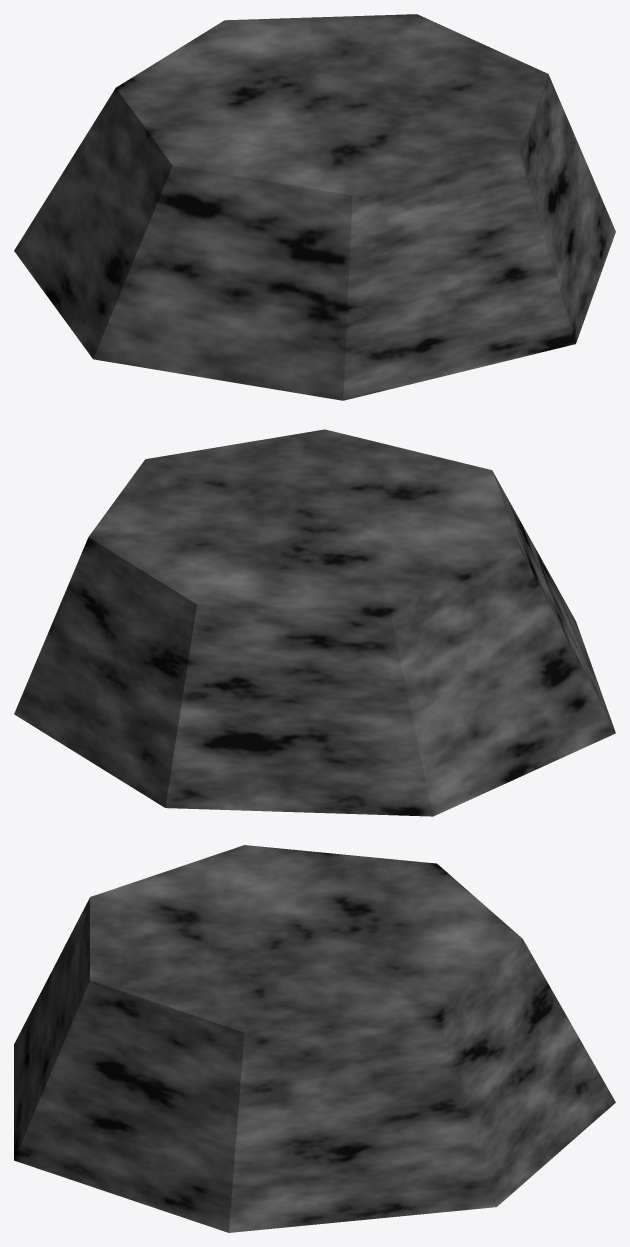
File: Smallrock.fbx
The picture shows the model from 3 angles, top to bottom: view 1: azimuth 30°, elevation 25°; view 2: azimuth 150°, elevation 25°; view 3: azimuth 270°, elevation 25°; orthographic projection. The views are drawn at different scales.
Parts seen in each view (by area): view 1: Stone; view 2: Stone; view 3: Stone.
Boxes of the visible parts, bbox=[...] form: Stone: bbox=[14, 14, 615, 400]; Stone: bbox=[14, 429, 615, 816]; Stone: bbox=[14, 845, 615, 1232].
Bounding box in the file's own units: 195 × 59.44 × 190.
Materials: 1 (1 with a texture image).
